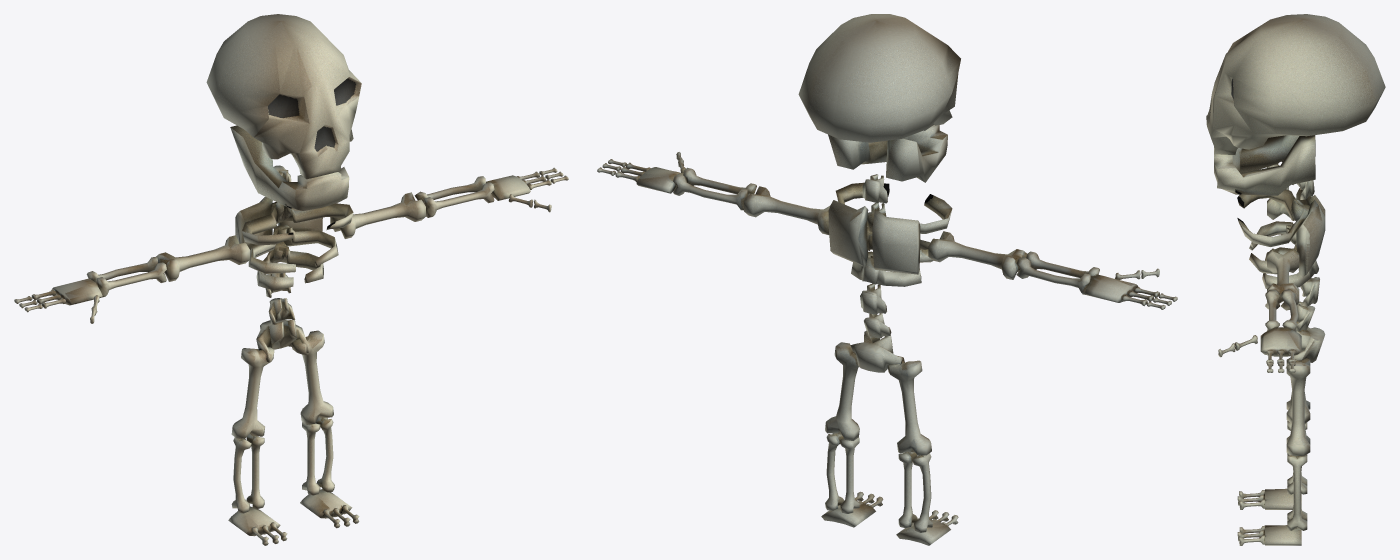
File: ESQUELETO2.fbx
3 views of the same model, side by side, from view 1: azimuth 30°, elevation 25°; view 2: azimuth 150°, elevation 25°; view 3: azimuth 270°, elevation 25° (orthographic). The views are drawn at different scales.
Visible parts, largest first — view 1: Cube; view 2: Cube; view 3: Cube.
Boxes of the visible parts, bbox=[...] form: Cube: bbox=[14, 14, 568, 545]; Cube: bbox=[597, 14, 1177, 545]; Cube: bbox=[1206, 14, 1385, 545].
Size of the model in its own units: 109 by 94.32 by 30.5.
